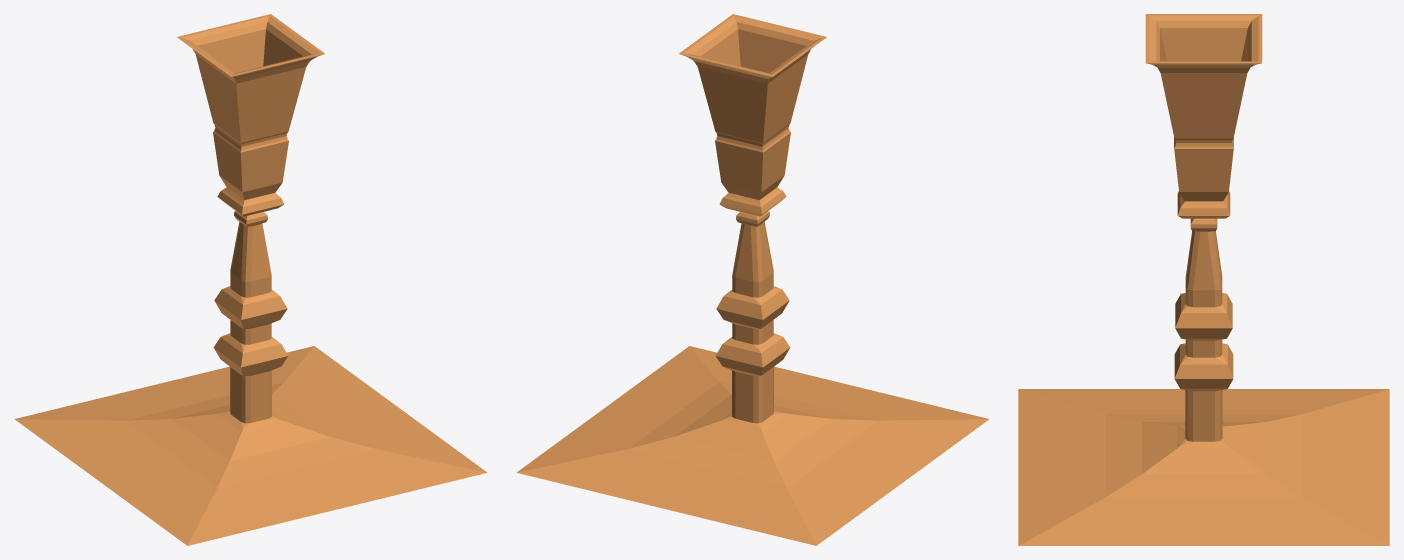
The model's file is Suporte_de_Vela_pequena.fbx.
The picture shows the model from 3 angles, left to right: view 1: azimuth 30°, elevation 25°; view 2: azimuth 150°, elevation 25°; view 3: azimuth 270°, elevation 25°; orthographic projection. The views are drawn at different scales.
Parts seen in each view (by area): view 1: Cube.056; view 2: Cube.056; view 3: Cube.056.
Part boxes in pixels (bbox=[...]): Cube.056: bbox=[14, 14, 487, 545]; Cube.056: bbox=[516, 14, 989, 545]; Cube.056: bbox=[1018, 14, 1389, 545].
Size of the model in its own units: 100 by 127 by 100.
